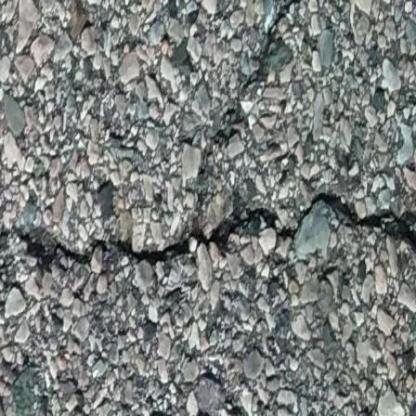Cracks: (0, 153, 416, 346), (191, 0, 314, 182)
